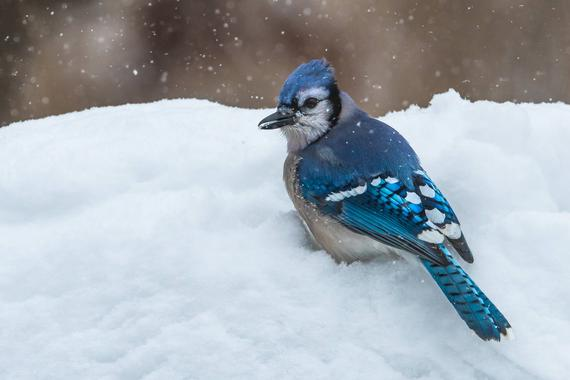bird: (272, 62, 477, 310)
